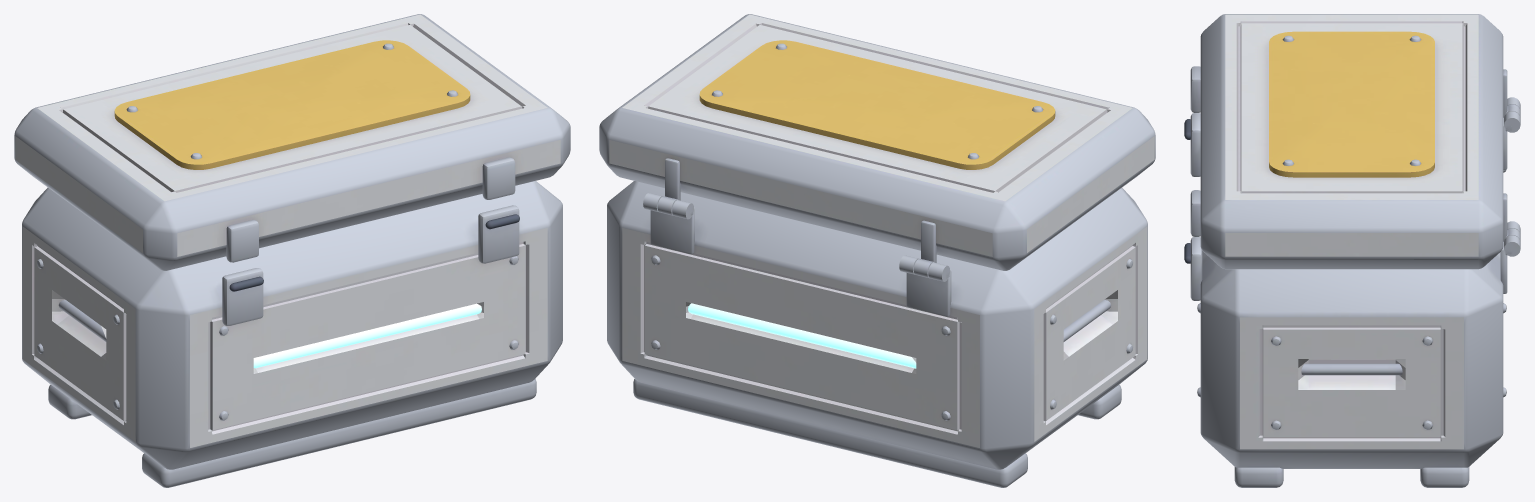
File: sci-fi-crate.glb
The picture shows the model from 3 angles, left to right: view 1: azimuth 30°, elevation 25°; view 2: azimuth 150°, elevation 25°; view 3: azimuth 270°, elevation 25°; orthographic projection.
Parts seen in each view (by area): view 1: sci-fi-crate_body, sci-fi-crate_lid, sci-fi-crate_light_strip_glow; view 2: sci-fi-crate_body, sci-fi-crate_lid, sci-fi-crate_light_strip_glow; view 3: sci-fi-crate_lid, sci-fi-crate_body.
Part boxes in pixels (x1,y1,x2,y2): sci-fi-crate_body: (22, 181, 562, 487); sci-fi-crate_lid: (14, 14, 570, 270); sci-fi-crate_light_strip_glow: (253, 303, 481, 368); sci-fi-crate_body: (607, 181, 1147, 487); sci-fi-crate_lid: (599, 14, 1155, 278); sci-fi-crate_light_strip_glow: (688, 303, 916, 368); sci-fi-crate_lid: (1190, 14, 1520, 269); sci-fi-crate_body: (1184, 97, 1520, 487).
Size of the model in its own units: 1.01 by 0.68 by 0.688.
3 materials, 2 textured.
